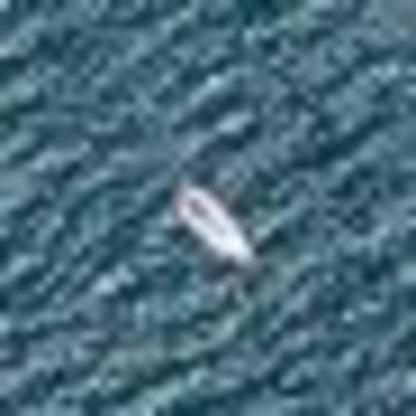ship: (156, 162, 259, 274)
